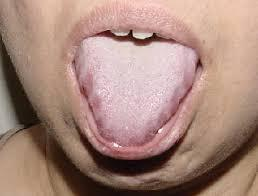baitaishe: (75, 39, 199, 147)
chihenshe: (78, 72, 104, 115)
